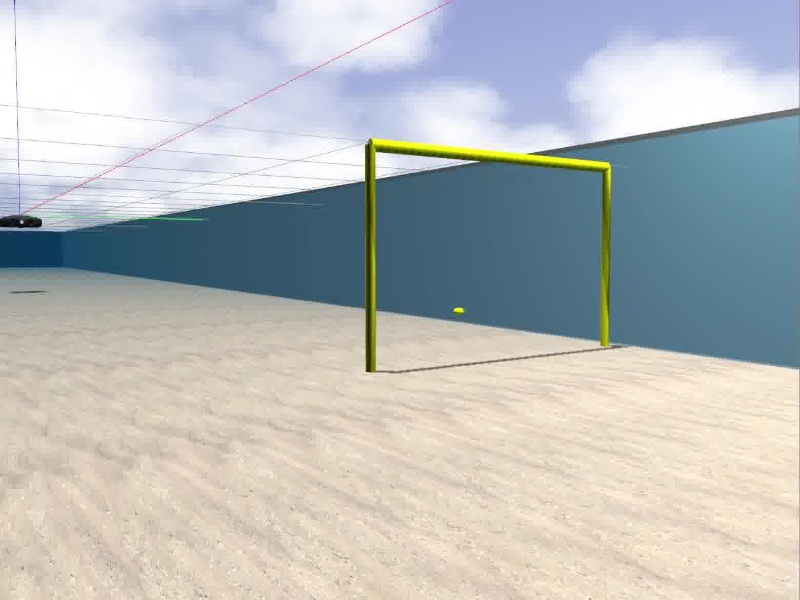gate: (363, 136, 613, 373)
